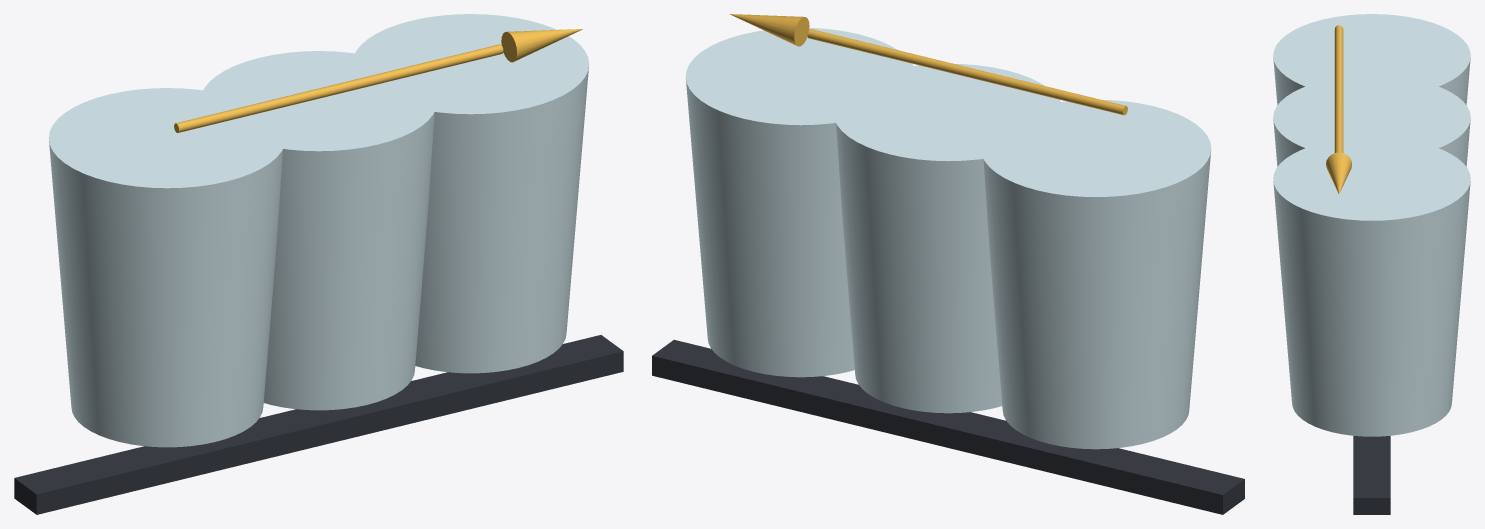
The model's file is chem-acids-indicator.glb.
3 views of the same model, side by side, from view 1: azimuth 30°, elevation 25°; view 2: azimuth 150°, elevation 25°; view 3: azimuth 270°, elevation 25° (orthographic). The views are drawn at different scales.
Visible parts, largest first — view 1: indicator-left-acid-color-glass, indicator-middle-neutral-color-glass, indicator-right-base-color-glass, acid-base-lab-bench, indicator-color-change-row-shaft, indicator-color-change-row-head; view 2: indicator-left-acid-color-glass, indicator-right-base-color-glass, indicator-middle-neutral-color-glass, acid-base-lab-bench, indicator-color-change-row-shaft, indicator-color-change-row-head; view 3: indicator-right-base-color-glass, indicator-middle-neutral-color-glass, indicator-left-acid-color-glass, acid-base-lab-bench, indicator-color-change-row-shaft, indicator-color-change-row-head.
Boxes of the visible parts, box(x1,y1,x2,y2) form: indicator-left-acid-color-glass: box(48, 88, 285, 447); indicator-middle-neutral-color-glass: box(200, 51, 437, 410); indicator-right-base-color-glass: box(352, 14, 589, 373); acid-base-lab-bench: box(14, 335, 623, 514); indicator-color-change-row-shaft: box(174, 44, 503, 132); indicator-color-change-row-head: box(501, 29, 582, 62); indicator-left-acid-color-glass: box(980, 99, 1211, 449); indicator-right-base-color-glass: box(685, 28, 916, 377); indicator-middle-neutral-color-glass: box(833, 64, 1063, 413); acid-base-lab-bench: box(652, 339, 1244, 514); indicator-color-change-row-shaft: box(807, 29, 1127, 115); indicator-color-change-row-head: box(729, 14, 809, 46); indicator-right-base-color-glass: box(1273, 137, 1470, 436); indicator-middle-neutral-color-glass: box(1273, 75, 1470, 166); indicator-left-acid-color-glass: box(1273, 14, 1470, 104); acid-base-lab-bench: box(1353, 435, 1390, 514); indicator-color-change-row-shaft: box(1334, 25, 1343, 152); indicator-color-change-row-head: box(1326, 152, 1351, 194).
Size of what is drawn, in the model's own units: 2.4 by 1.46 by 0.84.
